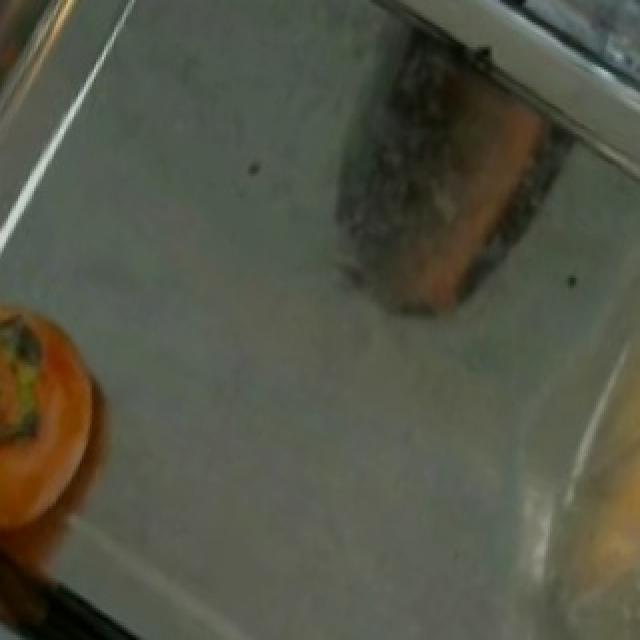Fruit: (0, 288, 128, 553)
